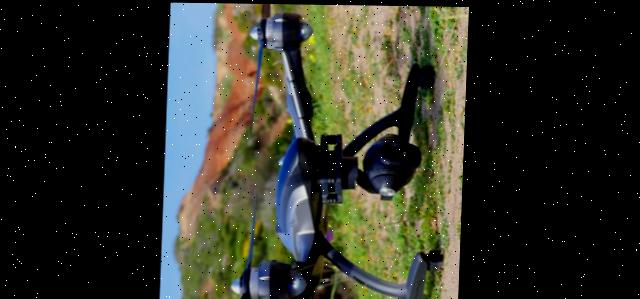drone: (214, 3, 463, 299)
